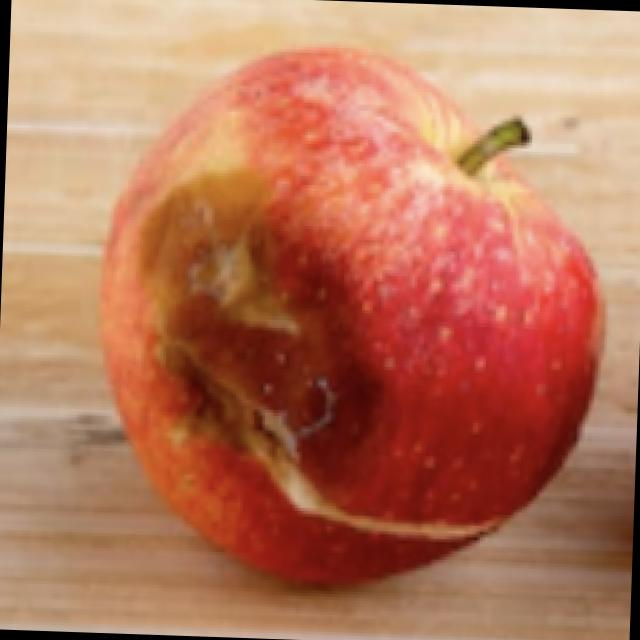rotten_apple: (86, 34, 620, 596)
